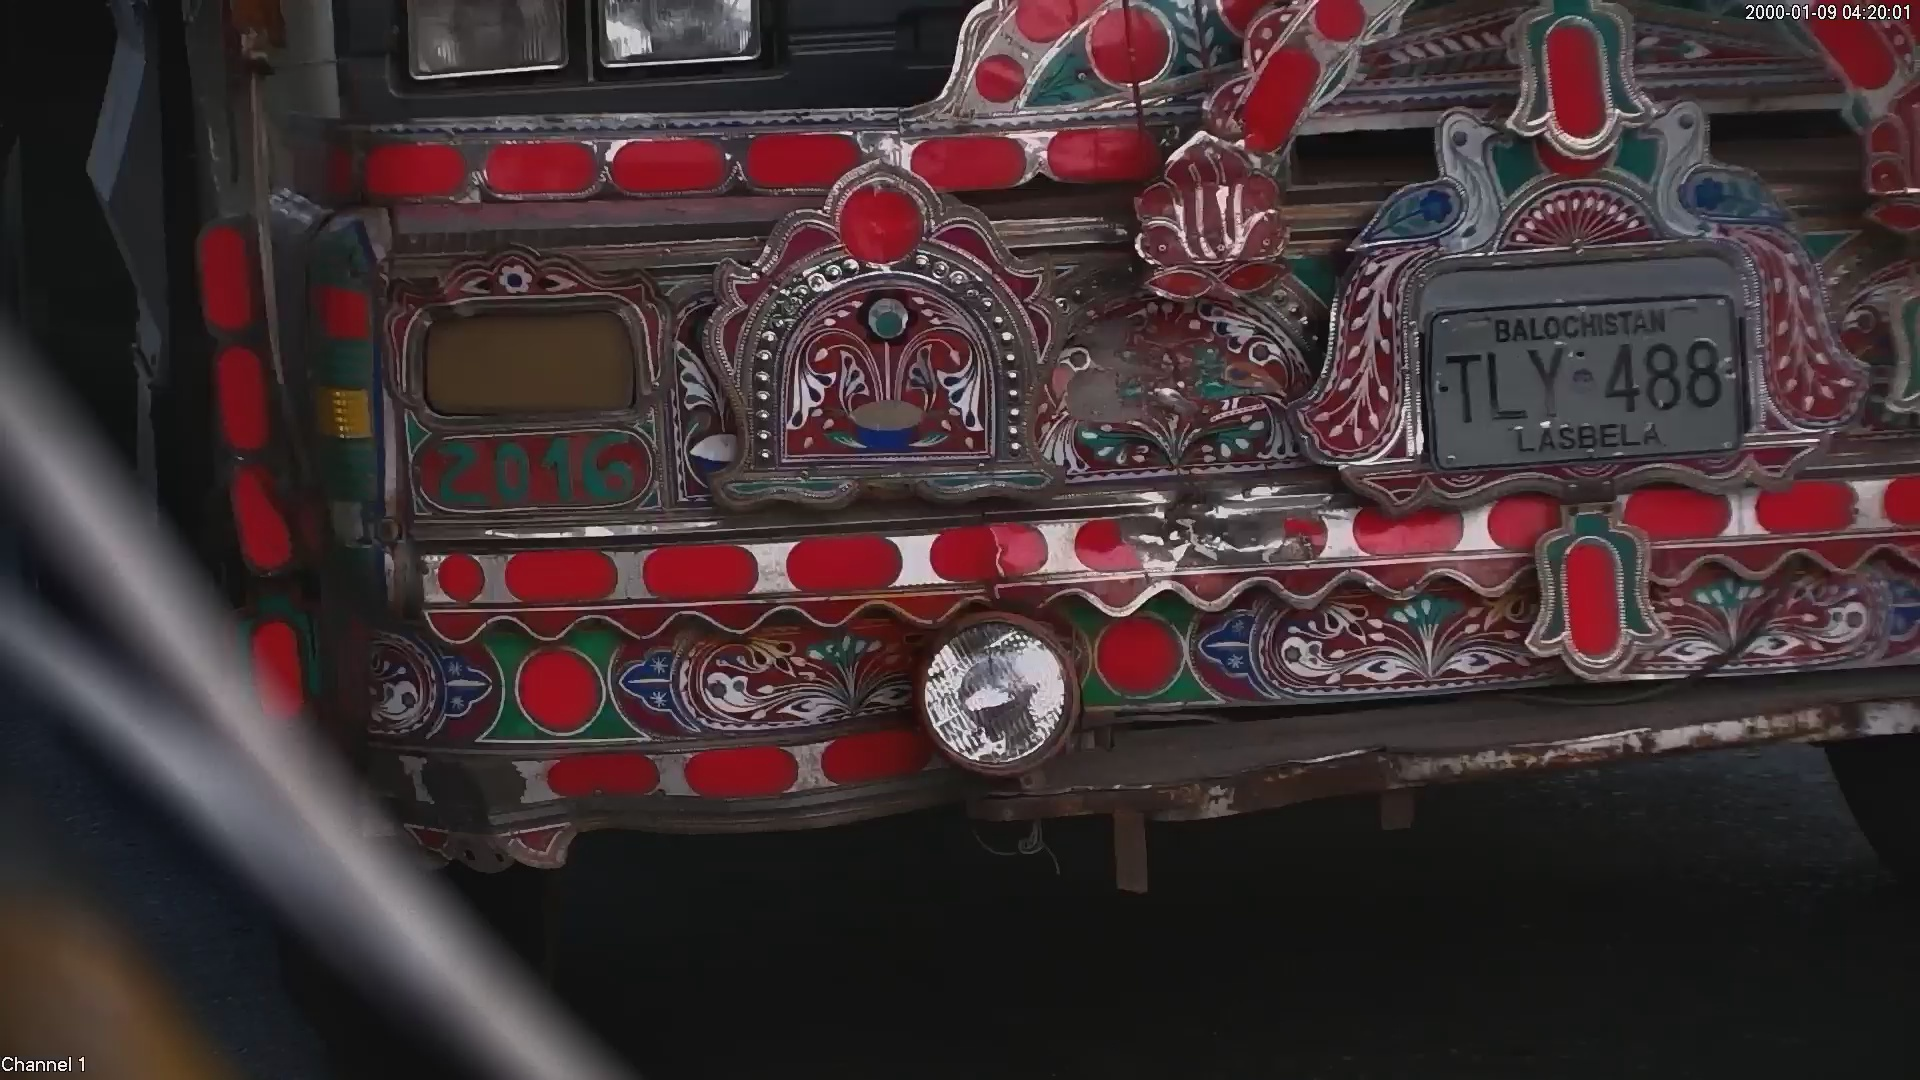Number_Plate: (1393, 244, 1782, 516)
Undefined: (391, 1, 810, 118), (884, 590, 1106, 781), (389, 418, 669, 527)
